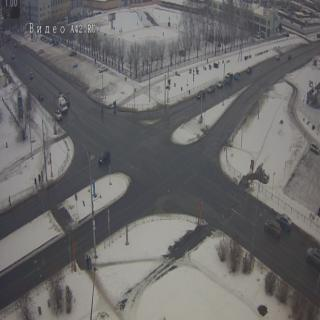large-vehicle: (58, 95, 68, 114)
small-vehicle: (264, 218, 282, 240), (278, 211, 292, 233), (307, 246, 320, 266), (97, 150, 110, 167), (196, 89, 205, 99), (98, 65, 108, 74), (217, 79, 225, 89), (54, 112, 62, 121), (38, 91, 44, 103), (208, 84, 215, 94), (245, 66, 253, 74), (29, 71, 34, 80), (10, 54, 16, 61), (70, 50, 77, 56), (53, 40, 59, 47), (44, 38, 51, 44), (288, 53, 293, 60), (276, 53, 280, 61), (50, 38, 54, 45)
